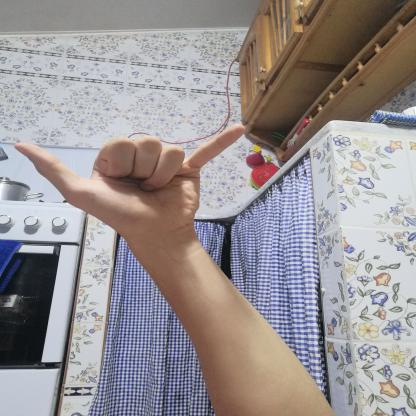YA: (6, 115, 260, 248)
